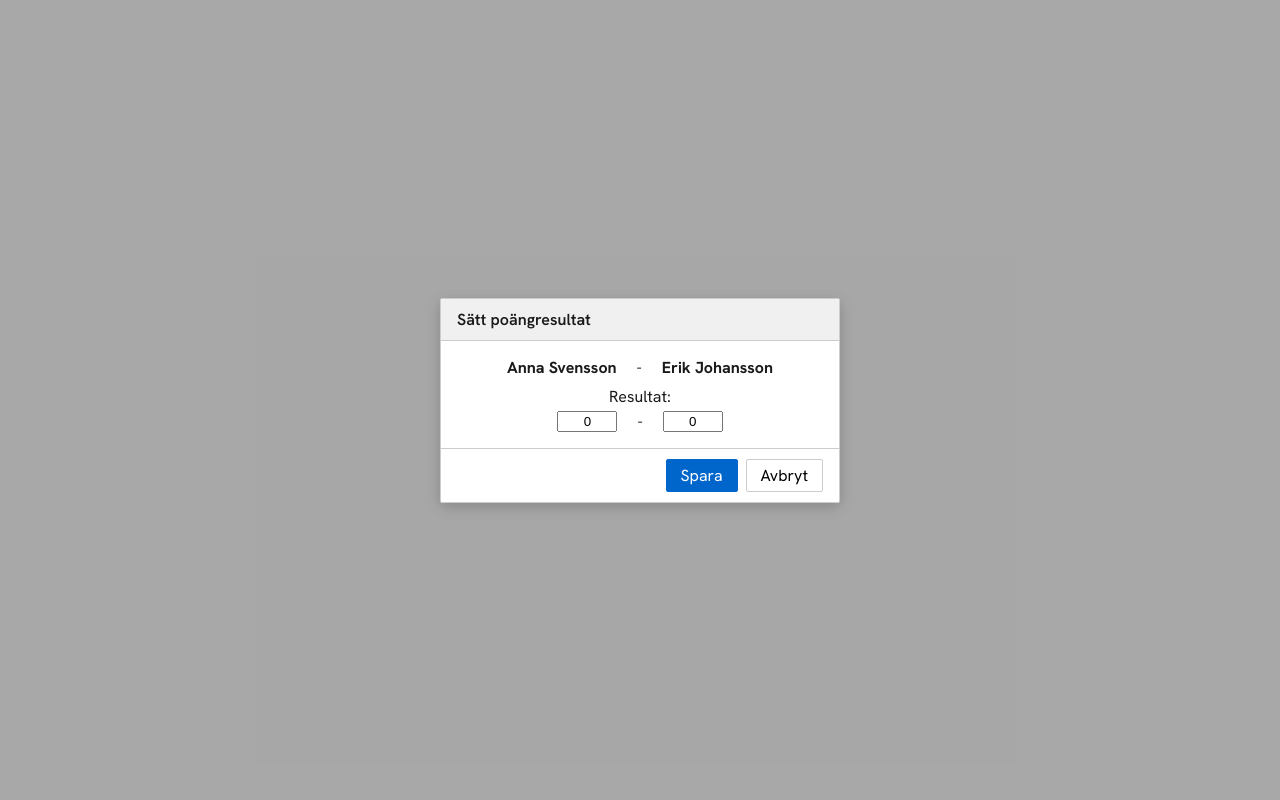
Test case: EditScoreDialog validation › clears error when scores are corrected and saved
Note: Trigger error first
Replace the text in the 1st field with "1" at (587, 421), box [557,410,617,432]
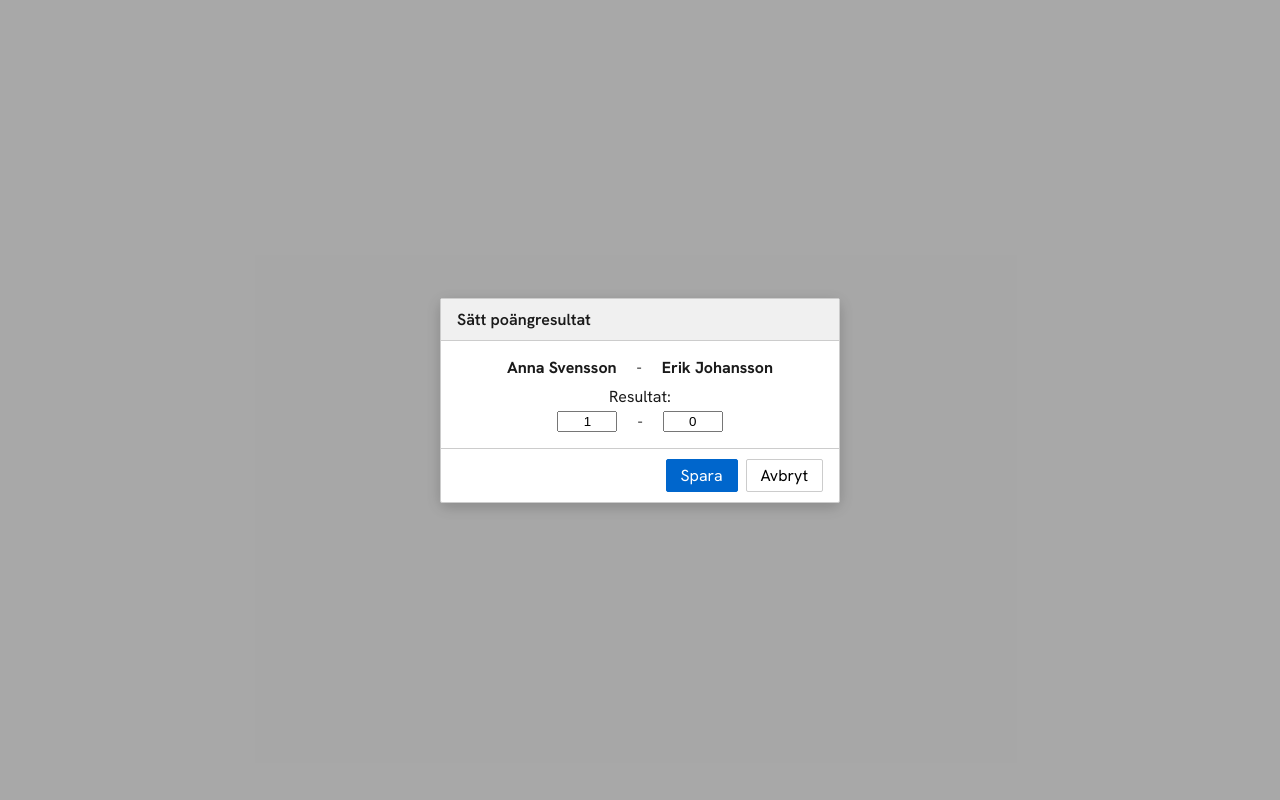
Replace the text in the 2nd field with "1" at (693, 421), box [663,410,723,432]
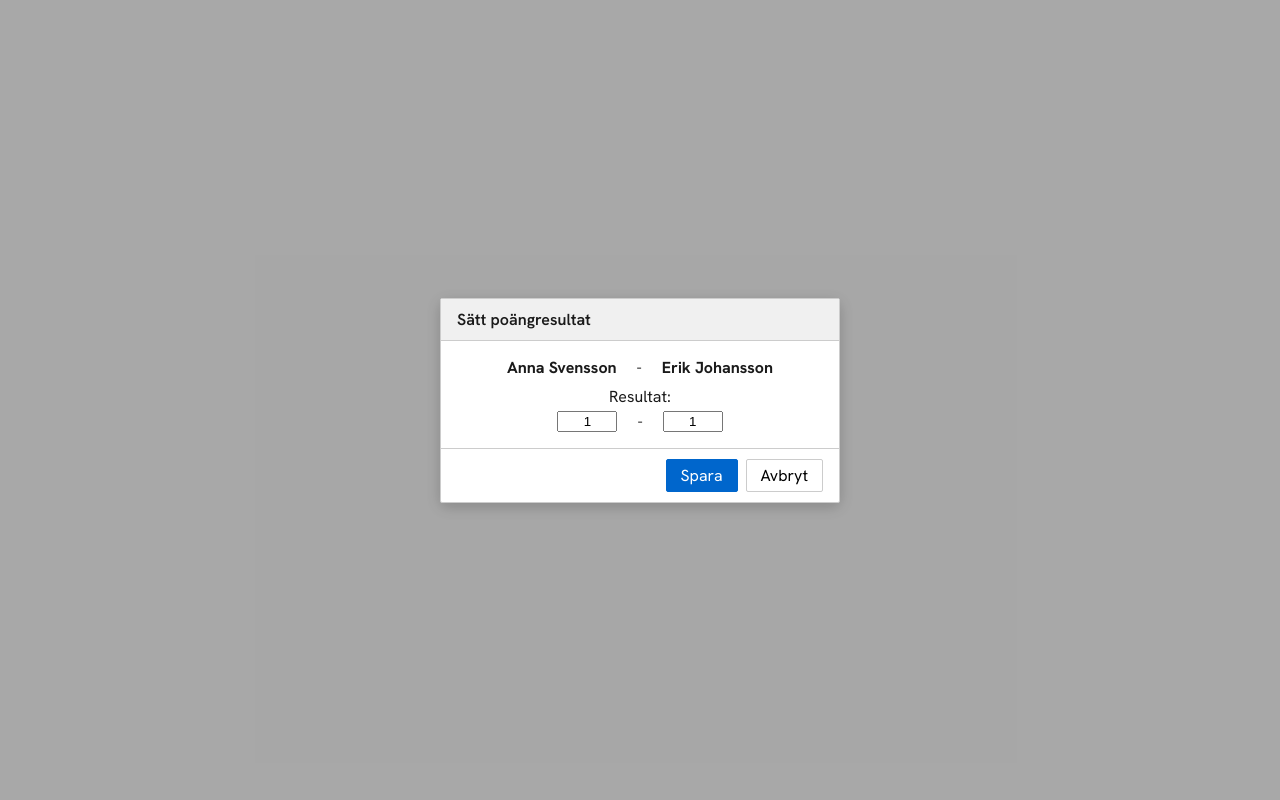
Click the button "Spara" at (702, 475), box [666,458,738,492]
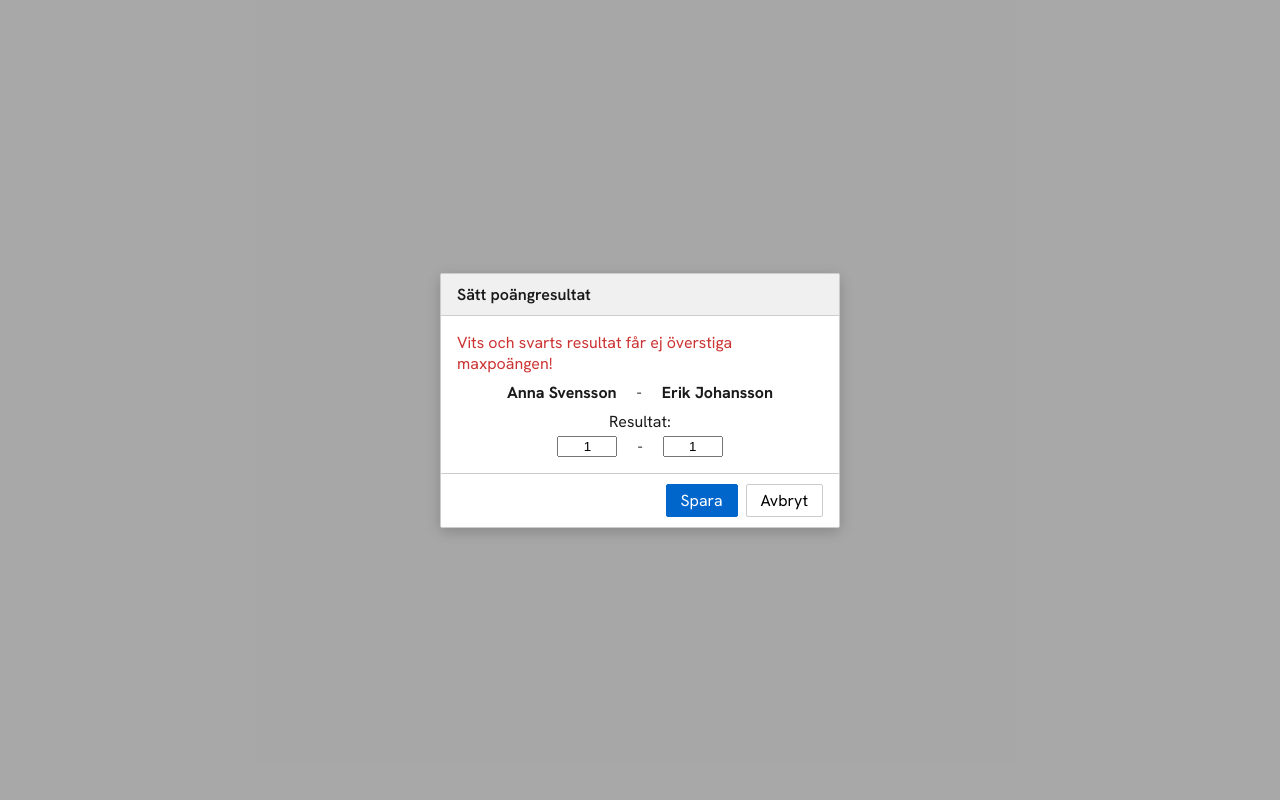
Now the text "Vits och svarts resultat får ej överstiga maxpoängen!" is shown, box [457,332,732,374]
Note: Fix scores
Replace the text in the 2nd field with "0" at (693, 446), box [663,436,723,456]
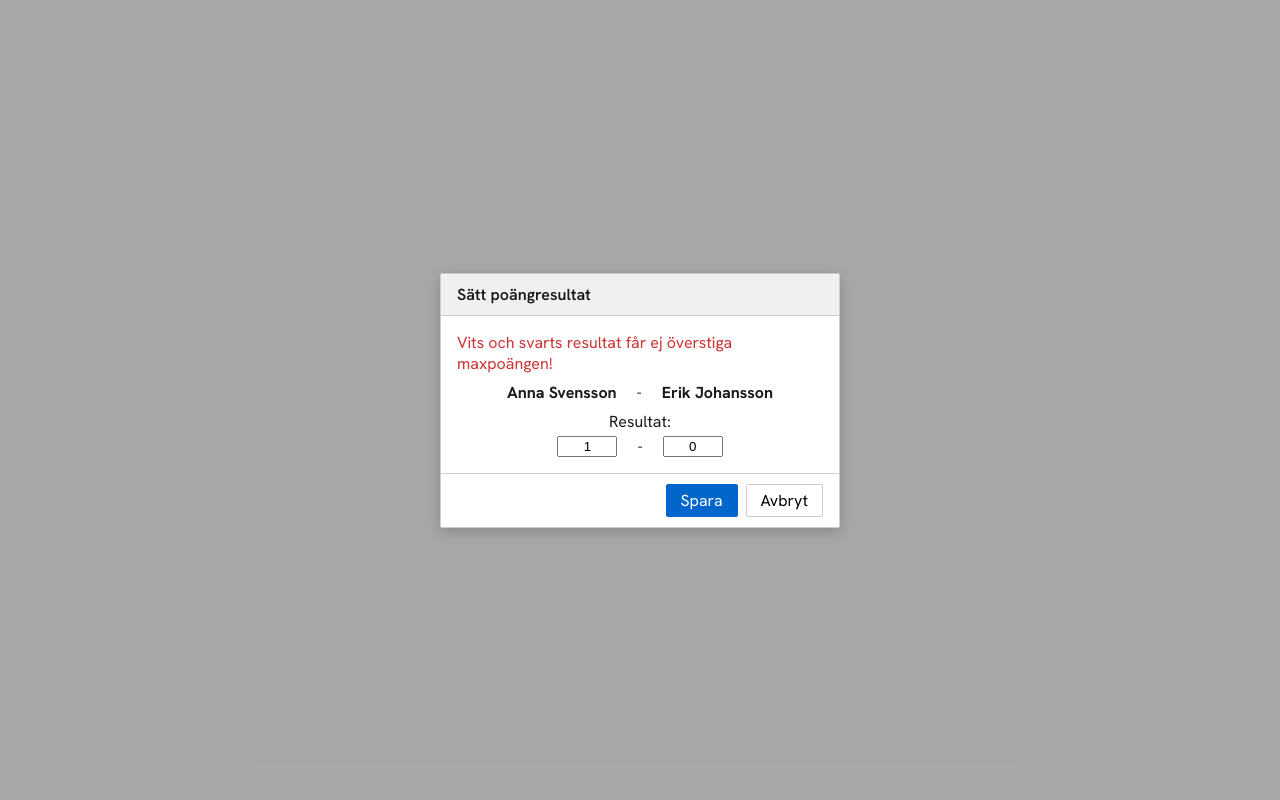
Click the button "Spara" at (702, 500), box [666,484,738,516]
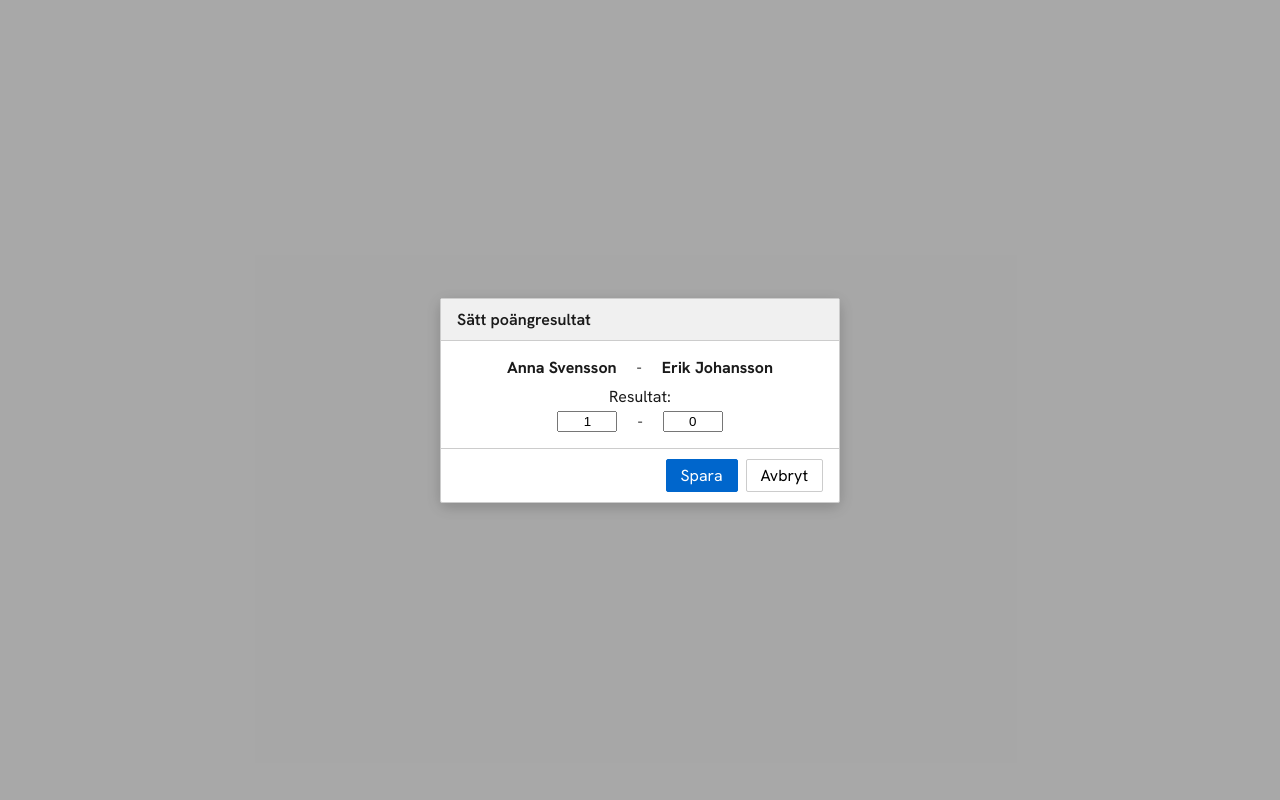
Now the text with test id "score-error" is gone
